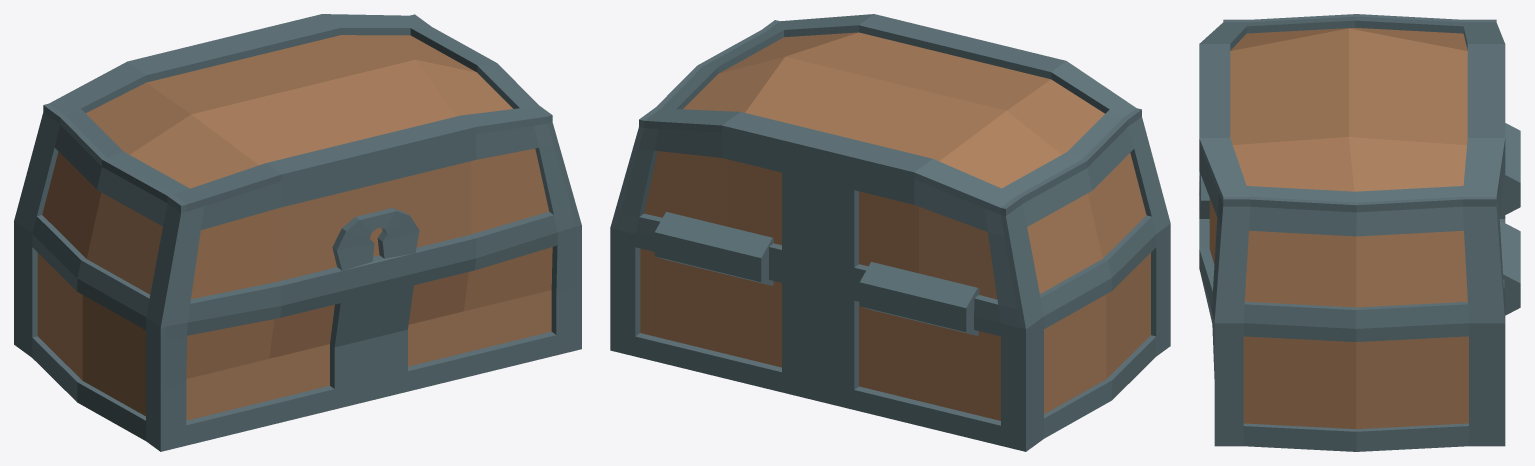
File: Chest$4$game.fbx
3 views of the same model, side by side, from view 1: azimuth 30°, elevation 25°; view 2: azimuth 150°, elevation 25°; view 3: azimuth 270°, elevation 25° (orthographic).
Visible parts, largest first — view 1: ChestTop, ChestBottom; view 2: ChestTop, ChestBottom, ChestHinges; view 3: ChestTop, ChestBottom, ChestHinges.
Part boxes in pixels (box(x1,y1,x2,y2)): ChestTop: box(14, 14, 581, 327); ChestBottom: box(14, 220, 581, 451); ChestTop: box(610, 14, 1170, 329); ChestBottom: box(610, 224, 1170, 451); ChestHinges: box(654, 212, 979, 335); ChestTop: box(1199, 14, 1505, 328); ChestBottom: box(1200, 271, 1505, 451); ChestHinges: box(1500, 123, 1520, 315).
Bounding box in the file's own units: 375 × 213 × 237.
